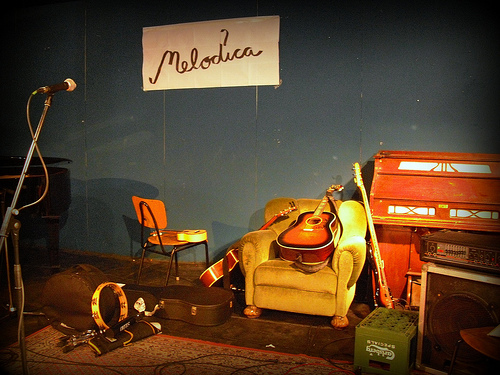guitar: (273, 183, 348, 266)
